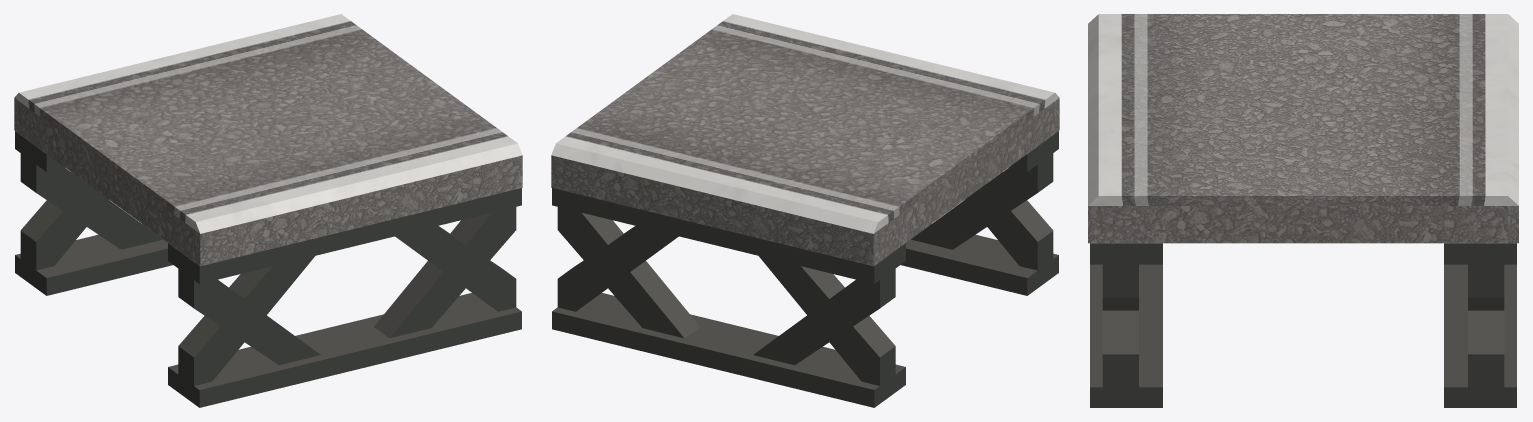
File: Model_Frost_Bridge.fbx
3 views of the same model, side by side, from view 1: azimuth 30°, elevation 25°; view 2: azimuth 150°, elevation 25°; view 3: azimuth 270°, elevation 25° (orthographic). The views are drawn at different scales.
Parts seen in each view (by area): view 1: xueshan_qiao; view 2: xueshan_qiao; view 3: xueshan_qiao.
Boxes of the visible parts, bbox=[...] form: xueshan_qiao: bbox=[14, 14, 522, 407]; xueshan_qiao: bbox=[551, 14, 1059, 407]; xueshan_qiao: bbox=[1088, 14, 1518, 407].
Size of the model in its own units: 200 by 108 by 200.
2 materials, 2 textured.
